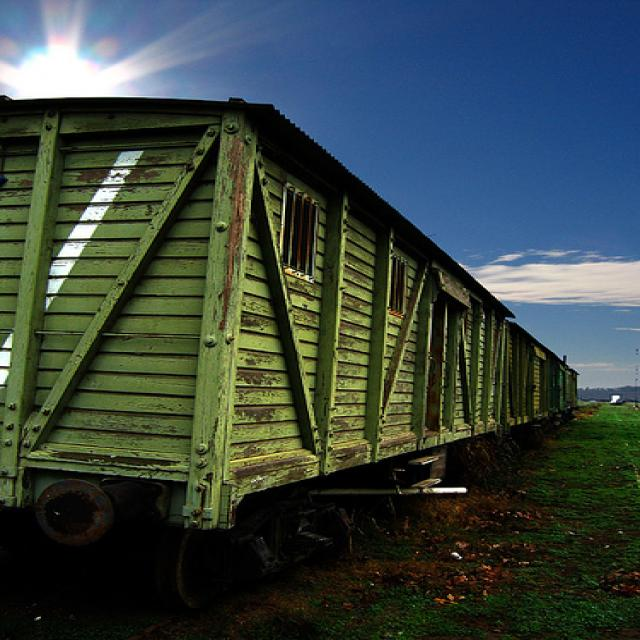boxcar: (0, 80, 550, 573)
